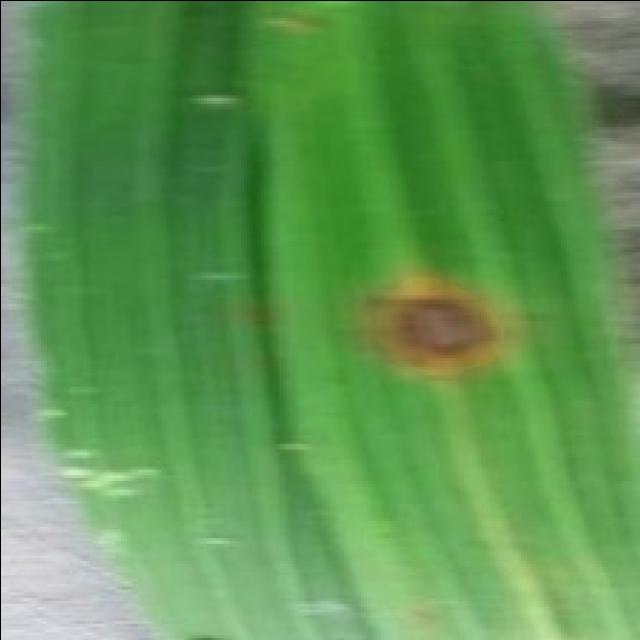Unhealthy: (350, 269, 515, 381)
